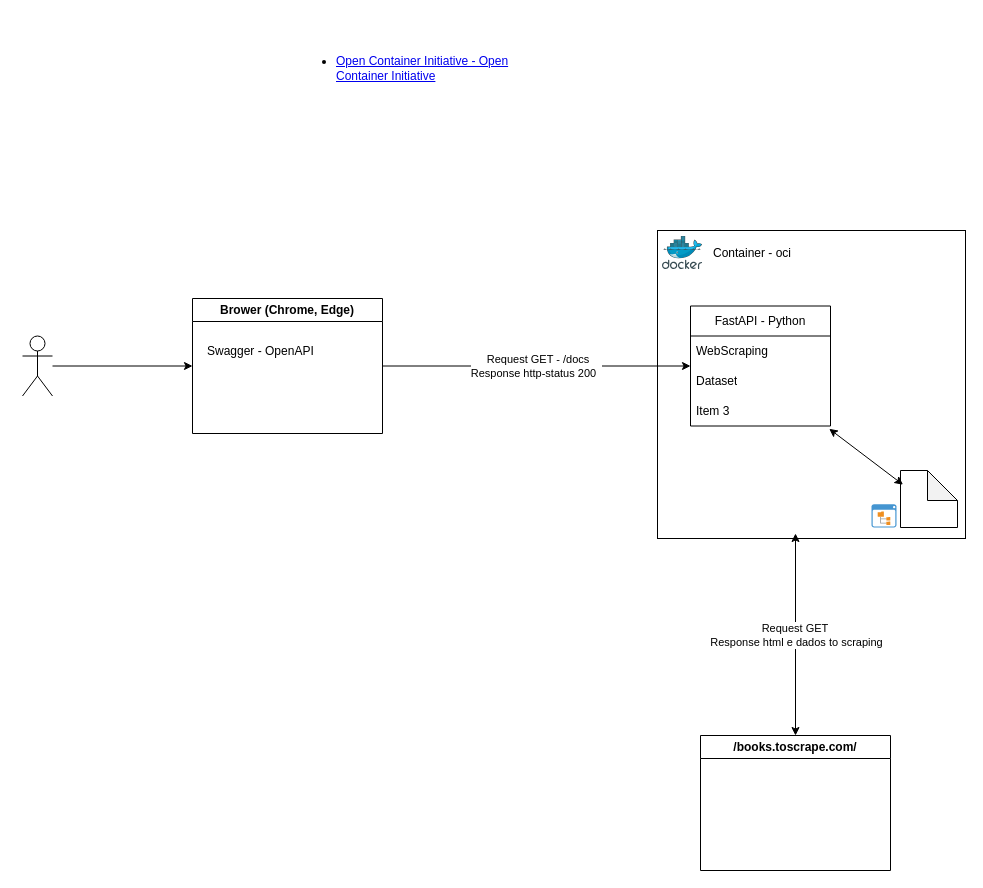
The diagram is 983 pixels wide and 888 high, and some of its shapes have lost their labels. Here are the shapes that lost their labels. From the top down, the centre of each, then its label:
[37,365]: U suário
[929,499]: .csv
